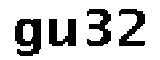2: (116, 9, 146, 51)
3: (84, 8, 113, 51)
g: (12, 14, 44, 60)
u: (49, 17, 78, 49)
